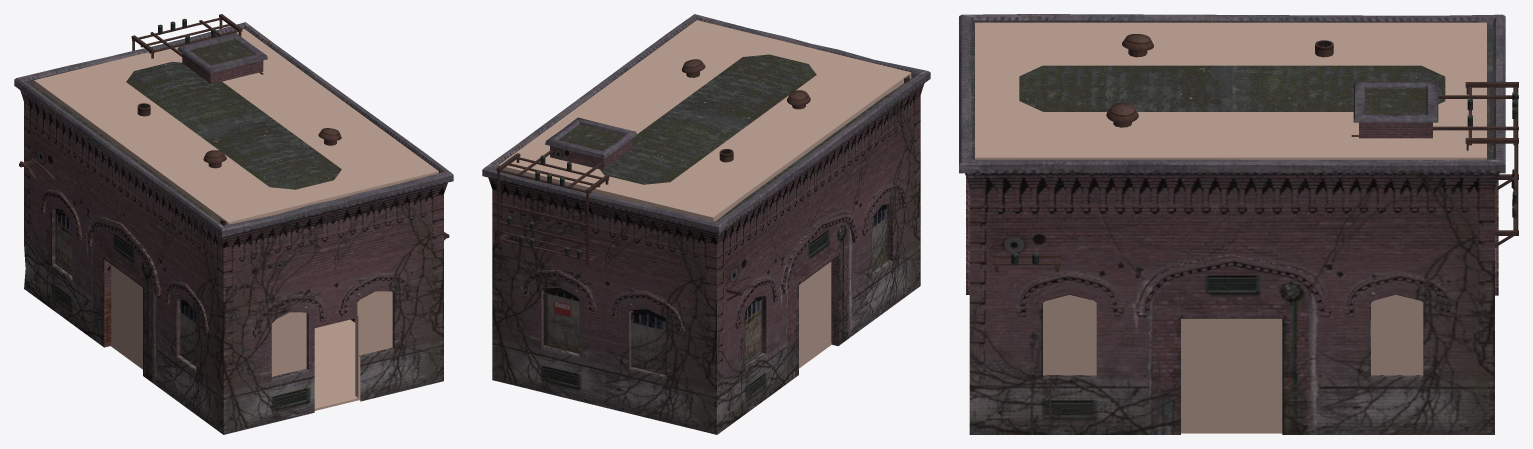
The model's file is brick-substation.zfix-v1.lod0.glb.
The picture shows the model from 3 angles, left to right: view 1: azimuth 30°, elevation 25°; view 2: azimuth 150°, elevation 25°; view 3: azimuth 270°, elevation 25°; orthographic projection. The views are drawn at different scales.
Visible parts, largest first — view 1: BrickSubstation00__0, Walkable floors and stairs; view 2: BrickSubstation00__0, Walkable floors and stairs; view 3: BrickSubstation00__0, Walkable floors and stairs.
Boxes of the visible parts, bbox=[...] form: BrickSubstation00__0: bbox=[14, 14, 453, 434]; Walkable floors and stairs: bbox=[34, 29, 438, 410]; BrickSubstation00__0: bbox=[482, 14, 930, 434]; Walkable floors and stairs: bbox=[498, 20, 911, 368]; BrickSubstation00__0: bbox=[959, 14, 1518, 434]; Walkable floors and stairs: bbox=[975, 22, 1486, 433].
Bounding box in the file's own units: 7.1 × 6.17 × 10.5.
2 materials, 1 textured.
